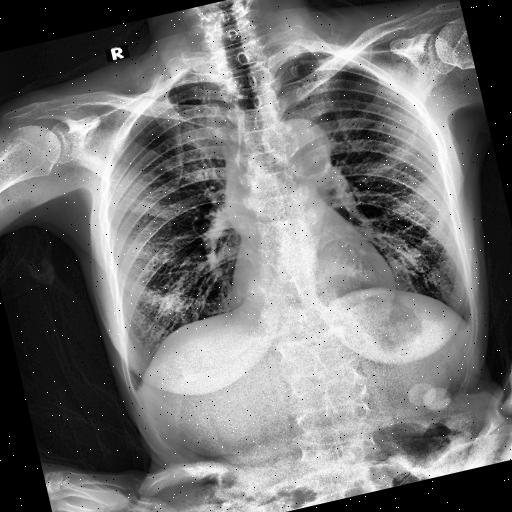0- Aortic enlargement: (264, 109, 341, 197), (268, 112, 338, 192), (268, 112, 336, 182)
